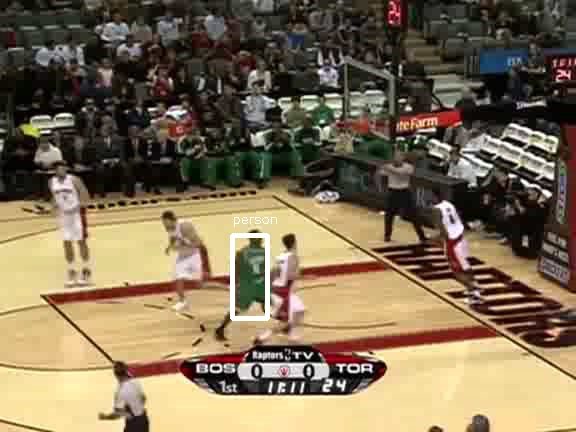person: (239, 234, 273, 315), (238, 234, 272, 315), (240, 234, 274, 315), (239, 233, 273, 314), (239, 235, 273, 316)
target_negative: (438, 156, 571, 332), (6, 182, 94, 371), (122, 78, 528, 107), (344, 399, 383, 408), (573, 93, 576, 160), (544, 225, 564, 228)
